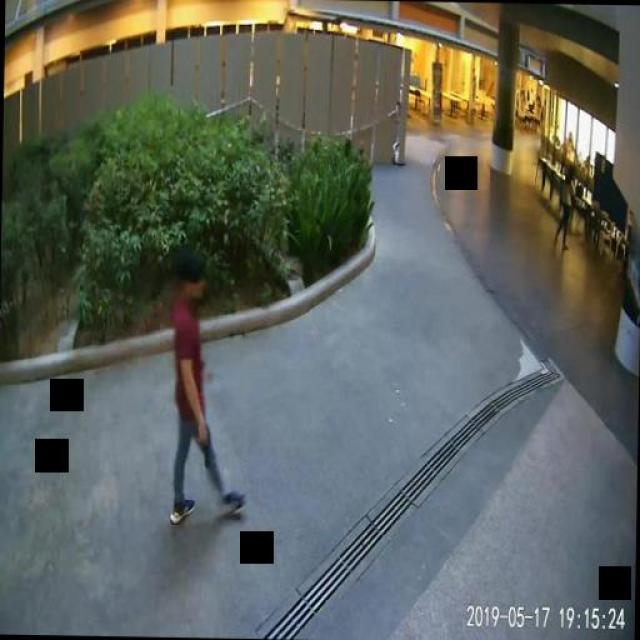gun: (194, 425, 215, 470)
